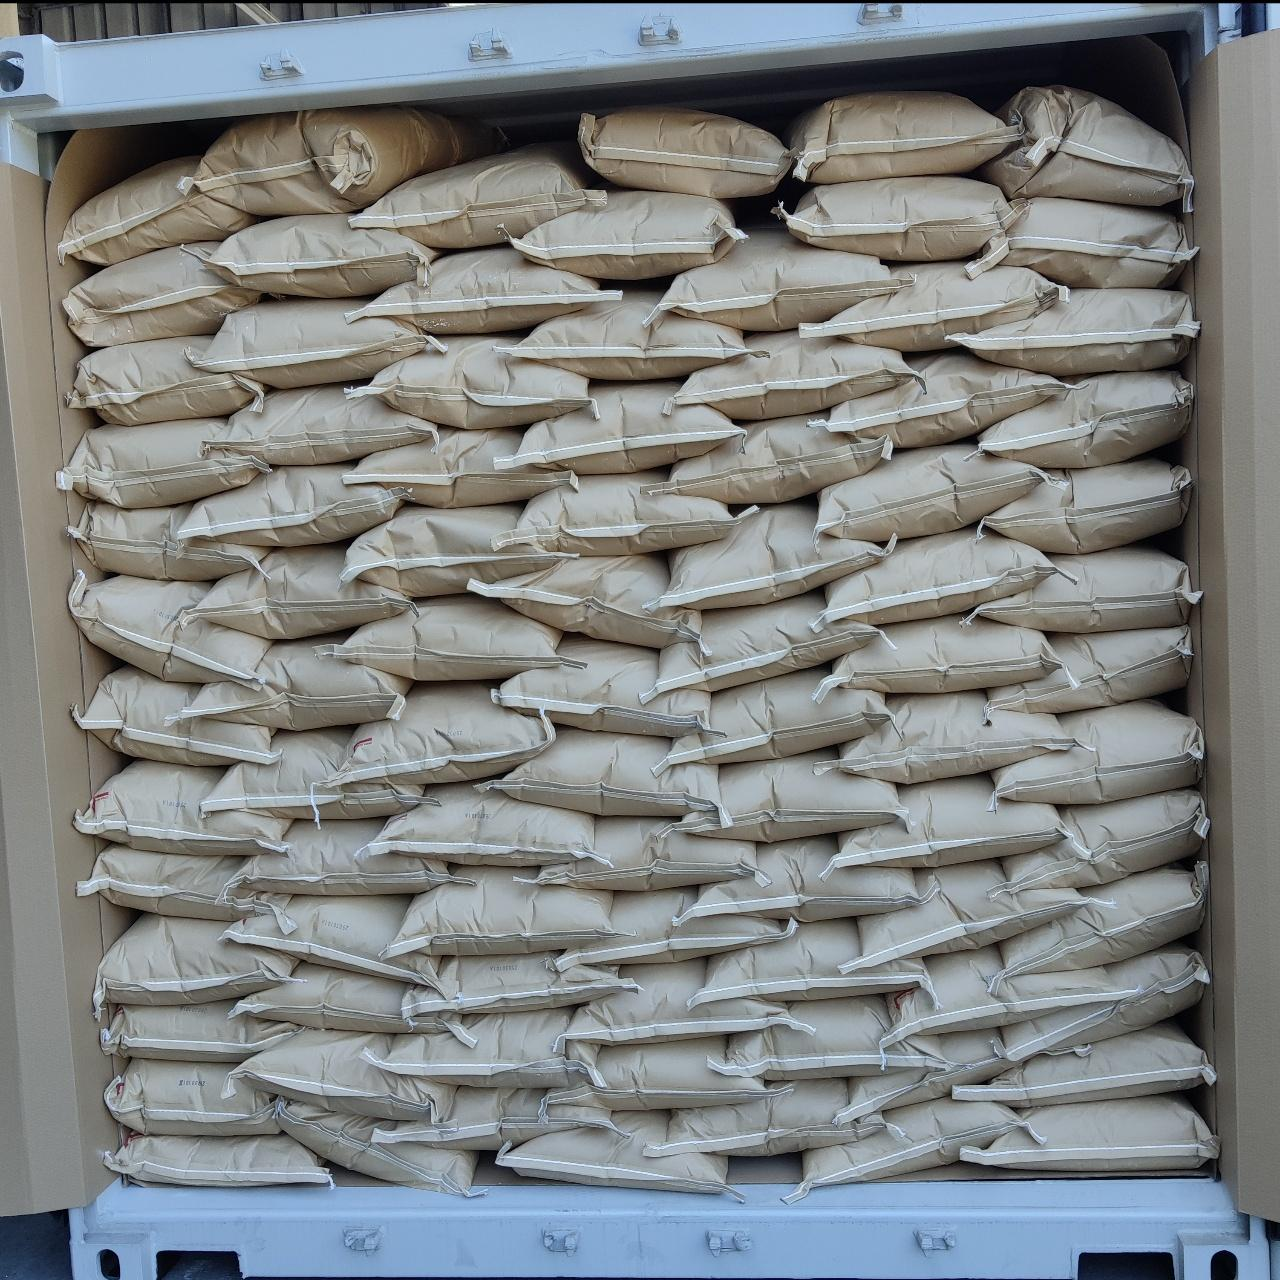sack: (190, 105, 502, 215), (844, 862, 1102, 972), (881, 945, 1142, 1047), (996, 864, 1204, 988), (352, 144, 604, 246), (982, 86, 1190, 206), (1001, 942, 1208, 1061), (648, 592, 880, 697), (654, 668, 886, 772), (658, 502, 888, 606), (658, 226, 894, 326), (821, 352, 1070, 445), (348, 246, 620, 332), (804, 263, 1068, 350), (816, 442, 1048, 542), (828, 774, 1064, 869), (990, 700, 1201, 804), (192, 298, 444, 384), (824, 527, 1054, 622), (178, 544, 410, 638), (352, 336, 590, 428), (958, 1020, 1214, 1104), (835, 692, 1073, 782), (782, 91, 1020, 182), (1002, 790, 1206, 894), (974, 370, 1192, 468), (504, 288, 742, 377), (672, 332, 915, 418), (56, 156, 254, 263), (70, 574, 270, 680), (468, 556, 700, 646), (342, 682, 552, 782), (493, 636, 708, 734), (181, 634, 408, 726), (220, 896, 444, 988), (338, 504, 564, 595), (680, 836, 918, 922), (952, 290, 1196, 374), (486, 728, 720, 816), (796, 1098, 1020, 1190), (512, 382, 738, 472), (204, 728, 424, 821), (512, 190, 744, 278), (959, 1095, 1217, 1173), (74, 666, 275, 765), (968, 198, 1196, 286), (962, 544, 1196, 629), (502, 470, 744, 552), (232, 1028, 452, 1118), (578, 105, 792, 198), (658, 416, 890, 502), (978, 456, 1189, 550), (76, 762, 290, 855), (64, 244, 258, 346), (230, 962, 470, 1044), (680, 750, 904, 838), (694, 920, 926, 1005), (776, 178, 1014, 260), (392, 866, 610, 954), (566, 960, 792, 1044), (822, 614, 1054, 694), (206, 215, 438, 294), (496, 1112, 728, 1192), (230, 818, 472, 894), (716, 996, 940, 1078), (986, 626, 1189, 716), (343, 428, 576, 506), (368, 782, 590, 864), (556, 890, 794, 966), (338, 595, 558, 678), (646, 1080, 881, 1156), (181, 464, 404, 544), (57, 420, 268, 504), (207, 384, 436, 462), (98, 914, 294, 1005), (280, 1104, 474, 1192), (370, 1010, 595, 1085), (840, 1030, 1024, 1122), (80, 844, 290, 922), (70, 338, 263, 422), (374, 1085, 628, 1148), (546, 1039, 765, 1110), (70, 502, 268, 580), (532, 818, 758, 886), (404, 954, 638, 1014), (104, 1060, 278, 1133), (104, 1133, 332, 1186), (102, 1000, 294, 1062)
